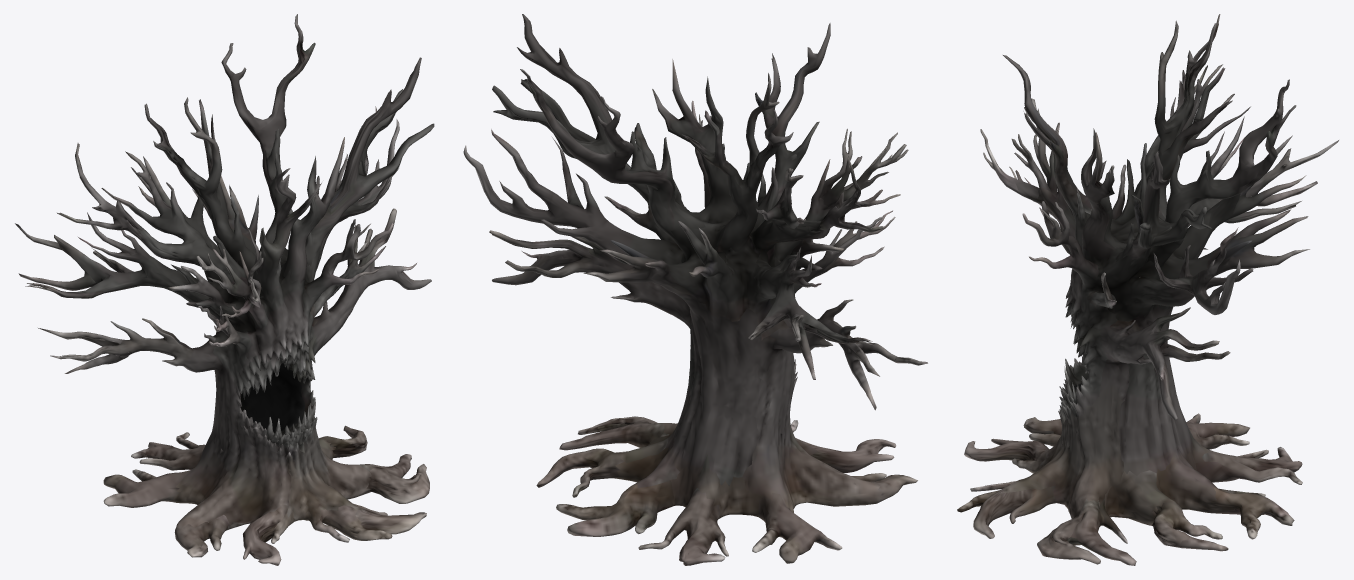
The model's file is MZ4250 - Tree Blight 2025.glb.
3 renders of one model, left to right at view 1: azimuth 30°, elevation 25°; view 2: azimuth 150°, elevation 25°; view 3: azimuth 270°, elevation 25°, orthographic. The views are drawn at different scales.
Visible parts, largest first — view 1: ORGANIC BASE SPHERE.001; view 2: ORGANIC BASE SPHERE.001; view 3: ORGANIC BASE SPHERE.001.
Boxes of the visible parts, left/top/right/bottom form: ORGANIC BASE SPHERE.001: left=15, top=14, right=434, bottom=565; ORGANIC BASE SPHERE.001: left=463, top=14, right=927, bottom=565; ORGANIC BASE SPHERE.001: left=957, top=14, right=1338, bottom=565.
Bounding box in the file's own units: 253 × 254 × 198.
Materials: 1 (1 with a texture image).
